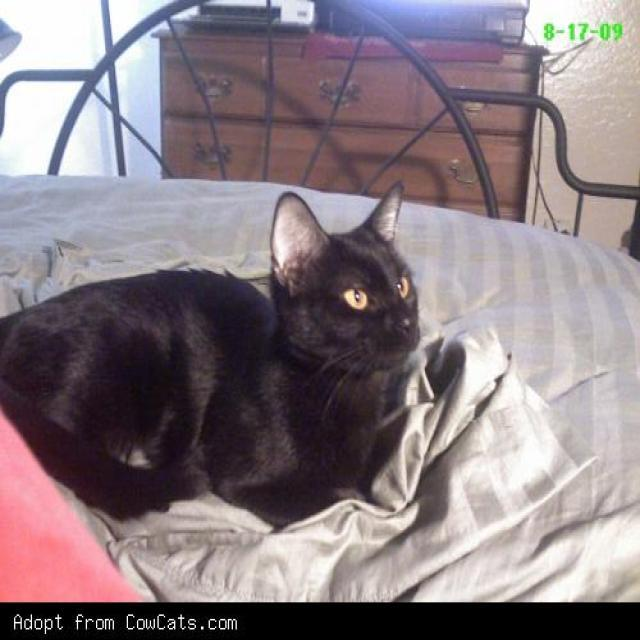Bombay: (268, 180, 418, 368)
